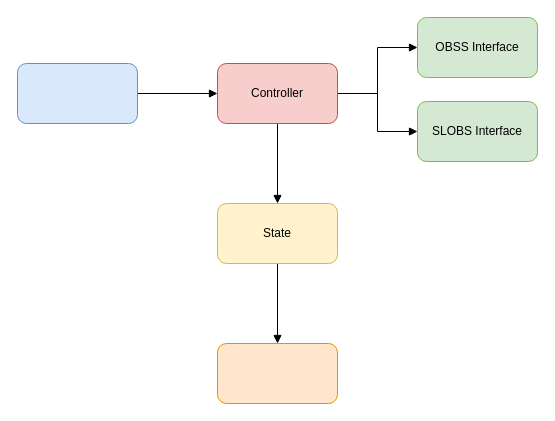
Some shapes in this 555 by 421 pixel diagram are drawn without their labels. The shapes that lost their labels are listed below. From the top down, each one's box as (x1, y1, x2, y2) in pixels, then its label:
(16, 62, 138, 124): Config File
(216, 342, 338, 404): Key
